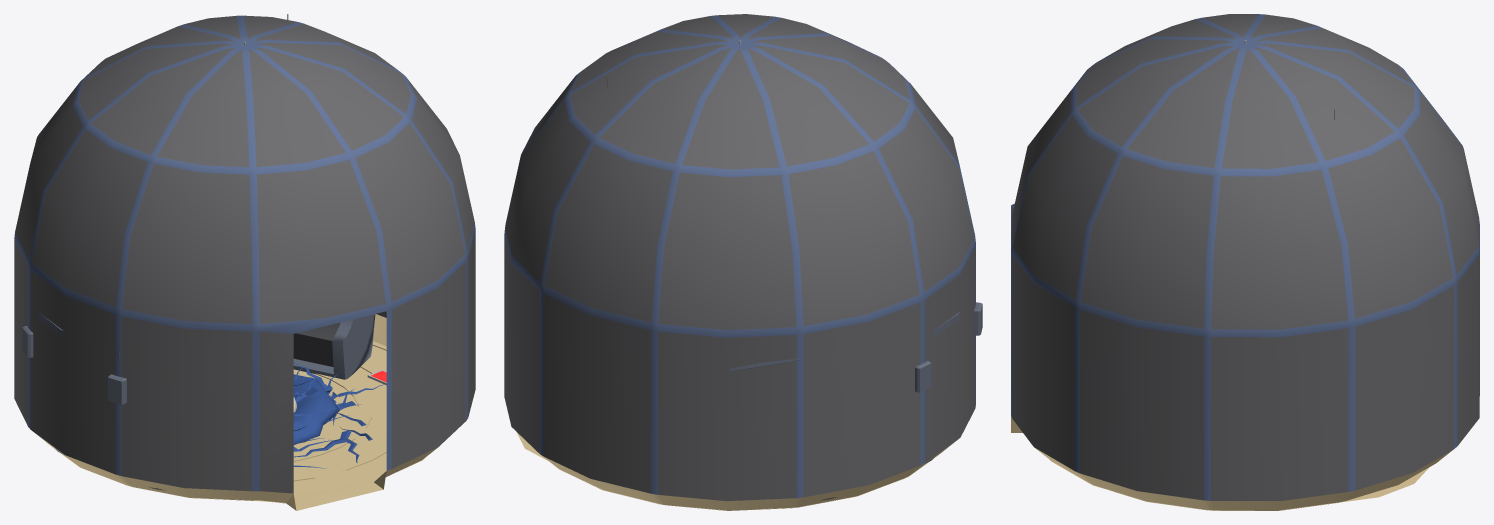
File: Klax_Broken_Apartment_01.fbx
3 renders of one model, left to right at view 1: azimuth 30°, elevation 25°; view 2: azimuth 150°, elevation 25°; view 3: azimuth 270°, elevation 25°, orthographic. The views are drawn at different scales.
Parts seen in each view (by area): view 1: Klax_Room_01_1, Klax_Desk_01_3, Klax_Bed_01_1, FloorRings1, BarSeat_01; view 2: Klax_Room_01_1, BarSeat_01; view 3: Klax_Room_01_1, FloorRings1.
Part boxes in pixels (<box>): Klax_Room_01_1: <box>14,15,475,510</box>; Klax_Desk_01_3: <box>293,314,375,379</box>; Klax_Bed_01_1: <box>293,361,385,451</box>; FloorRings1: <box>46,341,424,503</box>; BarSeat_01: <box>22,326,126,404</box>; Klax_Room_01_1: <box>504,14,975,510</box>; BarSeat_01: <box>915,302,982,392</box>; Klax_Room_01_1: <box>1011,14,1479,510</box>; FloorRings1: <box>1050,460,1439,510</box>.
Size of the model in its own units: 2094 by 1875 by 2072.
